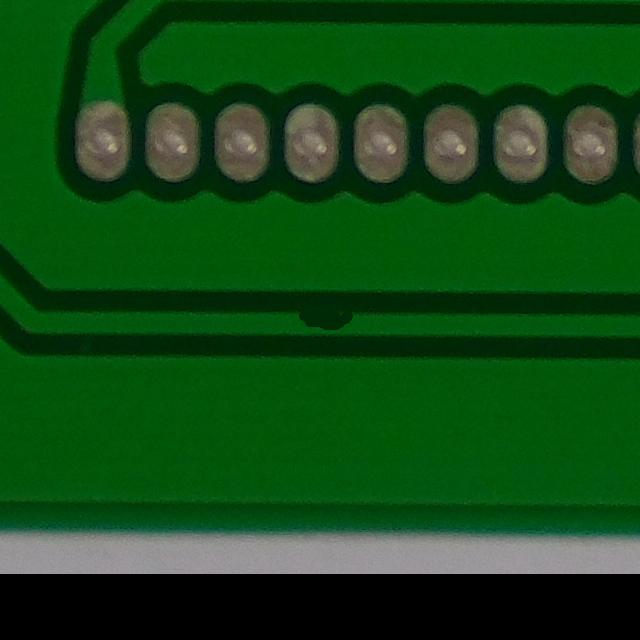mouse_bite: (266, 292, 375, 349)
